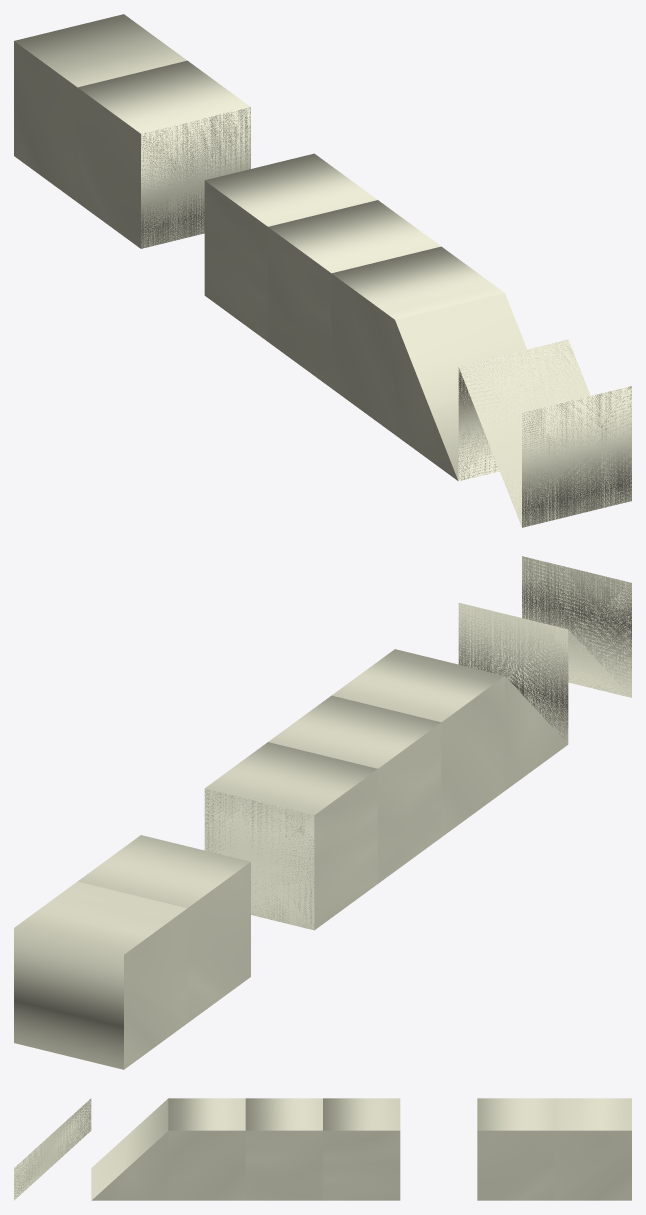
The picture shows the model from 3 angles, top to bottom: view 1: azimuth 30°, elevation 25°; view 2: azimuth 150°, elevation 25°; view 3: azimuth 270°, elevation 25°; orthographic projection. The views are drawn at different scales.
Bounding box in the file's own units: 0.08 × 0.08 × 0.64.
1 material, 1 textured.
